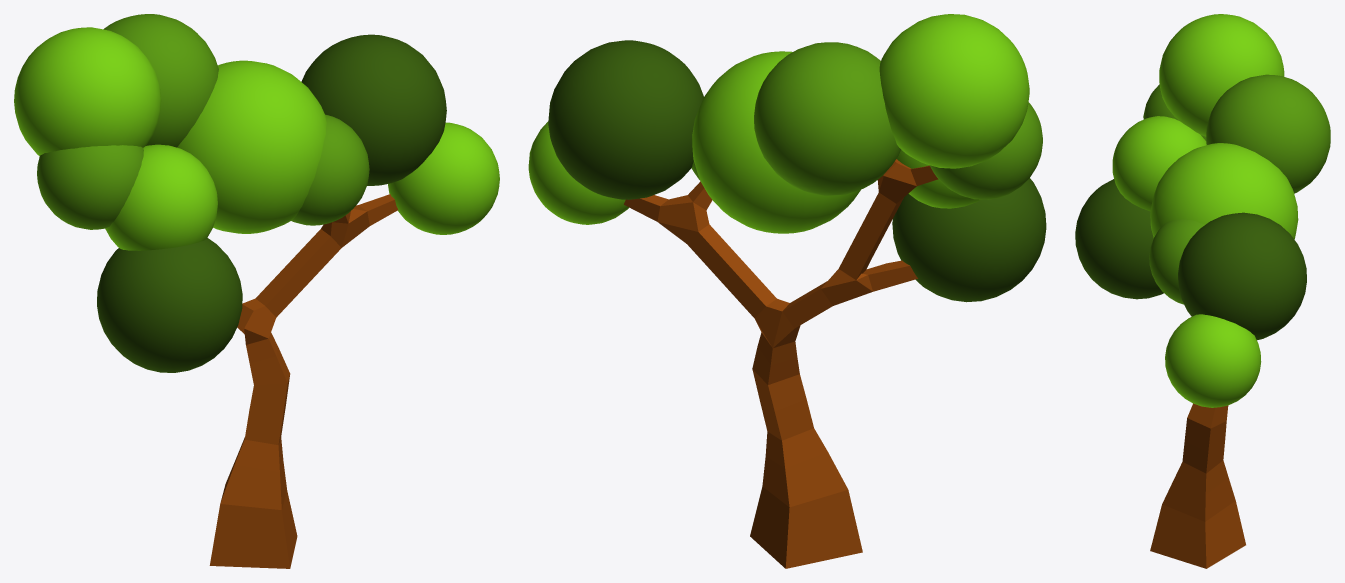
File: Medium Sphere Tree.fbx
The picture shows the model from 3 angles, left to right: view 1: azimuth 30°, elevation 25°; view 2: azimuth 150°, elevation 25°; view 3: azimuth 270°, elevation 25°; orthographic projection. The views are drawn at different scales.
Visible parts, largest first — view 1: Cube; view 2: Cube; view 3: Cube.
Boxes of the visible parts, x1,y1,x2,y2 form: Cube: [14, 14, 499, 568]; Cube: [528, 14, 1046, 568]; Cube: [1075, 14, 1330, 568].
Size of what is drawn, in the model's own units: 405 by 455 by 227.
